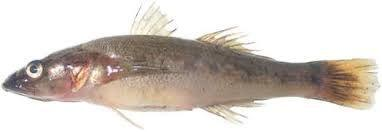Goby: (2, 4, 382, 132)
